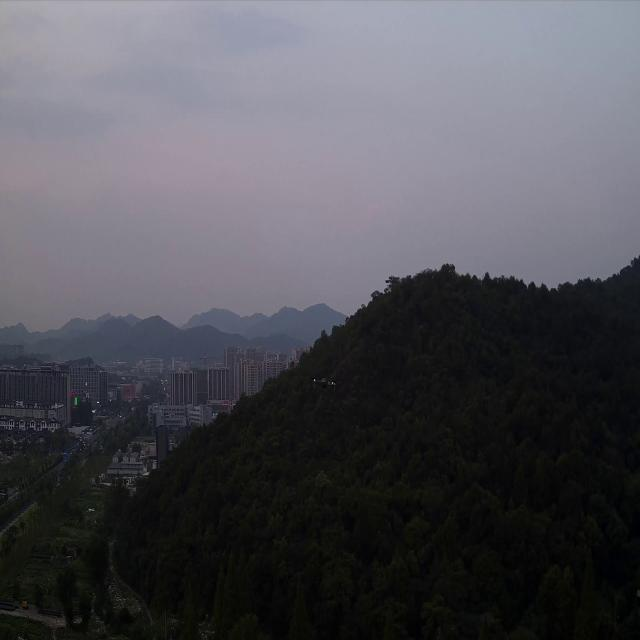UAV: (310, 374, 340, 392)
